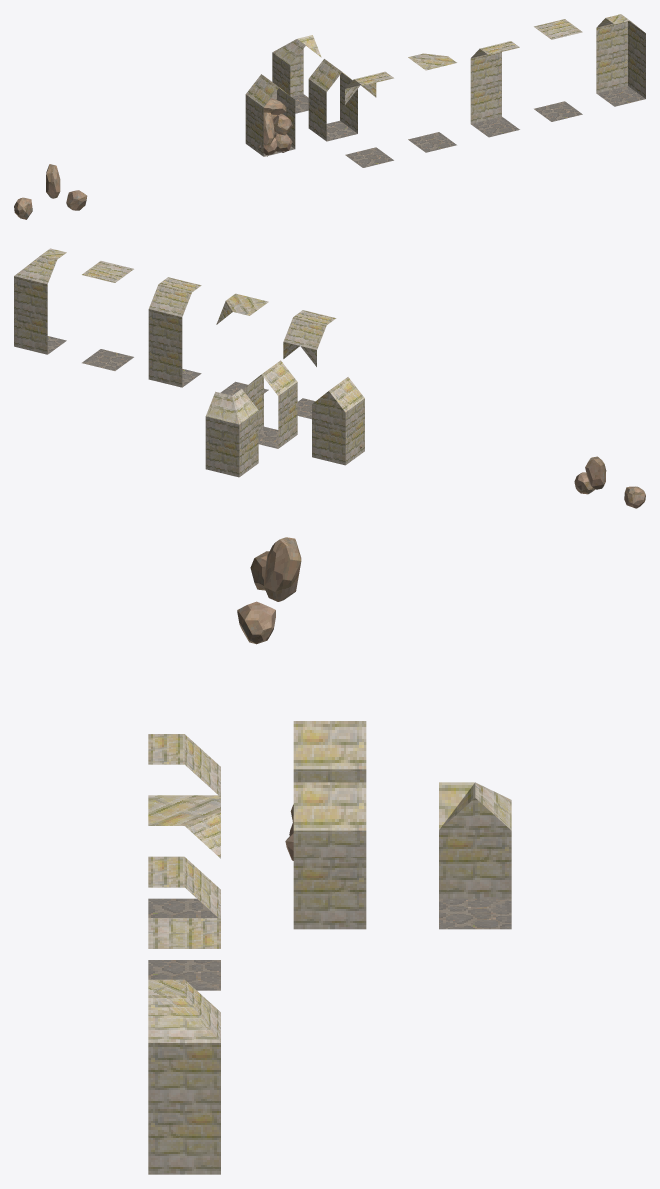
The model's file is castleadventuretiles.glb.
3 renders of one model, top to bottom at view 1: azimuth 30°, elevation 25°; view 2: azimuth 150°, elevation 25°; view 3: azimuth 270°, elevation 25°, orthographic. The views are drawn at different scales.
Visible parts, largest first — view 1: default-corner-in-col, narrow-blocked-col, default-wall-col, narrow-hallway-col, narrow-corner-col, default-narrow-entrance-col, default-floor-col, default-corner-out-col, rock-2-col, rock-1-col, rock-3-col; view 2: narrow-corner-col, default-wall-col, narrow-blocked-col, default-corner-in-col, narrow-hallway-col, default-narrow-entrance-col, default-floor-col, default-corner-out-col, rock-2-col, rock-3-col; view 3: default-corner-in-col, narrow-hallway-col, narrow-corner-col, narrow-blocked-col, default-corner-out-col, default-narrow-entrance-col, default-wall-col, default-floor-col, rock-2-col, rock-1-col.
Boxes of the visible parts, x1,y1,x2,y2 form: default-corner-in-col: (596, 14, 645, 106); narrow-blocked-col: (245, 74, 295, 156); default-wall-col: (470, 41, 519, 137); narrow-hallway-col: (308, 59, 357, 141); narrow-corner-col: (272, 35, 321, 113); default-narrow-entrance-col: (345, 71, 393, 167); default-floor-col: (534, 19, 582, 121); default-corner-out-col: (408, 53, 456, 152); rock-2-col: (46, 164, 60, 198); rock-1-col: (66, 190, 87, 210); rock-3-col: (14, 197, 32, 219); narrow-corner-col: (205, 389, 258, 477); default-wall-col: (148, 277, 201, 387); narrow-blocked-col: (312, 377, 364, 465); default-corner-in-col: (14, 248, 66, 354); narrow-hallway-col: (244, 360, 297, 448); default-narrow-entrance-col: (283, 310, 336, 419); default-floor-col: (82, 261, 133, 370); default-corner-out-col: (216, 293, 268, 395); rock-2-col: (585, 456, 606, 489); rock-3-col: (624, 486, 645, 508); default-corner-in-col: (148, 979, 220, 1174); narrow-hallway-col: (293, 782, 366, 929); narrow-corner-col: (439, 782, 511, 929); narrow-blocked-col: (285, 721, 366, 860); default-corner-out-col: (148, 795, 220, 990); default-narrow-entrance-col: (148, 734, 220, 917); default-wall-col: (148, 856, 220, 917); default-floor-col: (148, 918, 220, 948); rock-2-col: (264, 537, 301, 601); rock-1-col: (237, 601, 275, 644).
Bounding box in the file's own units: 19.1 × 2.62 × 5.
Materials: 2 (2 with a texture image).
